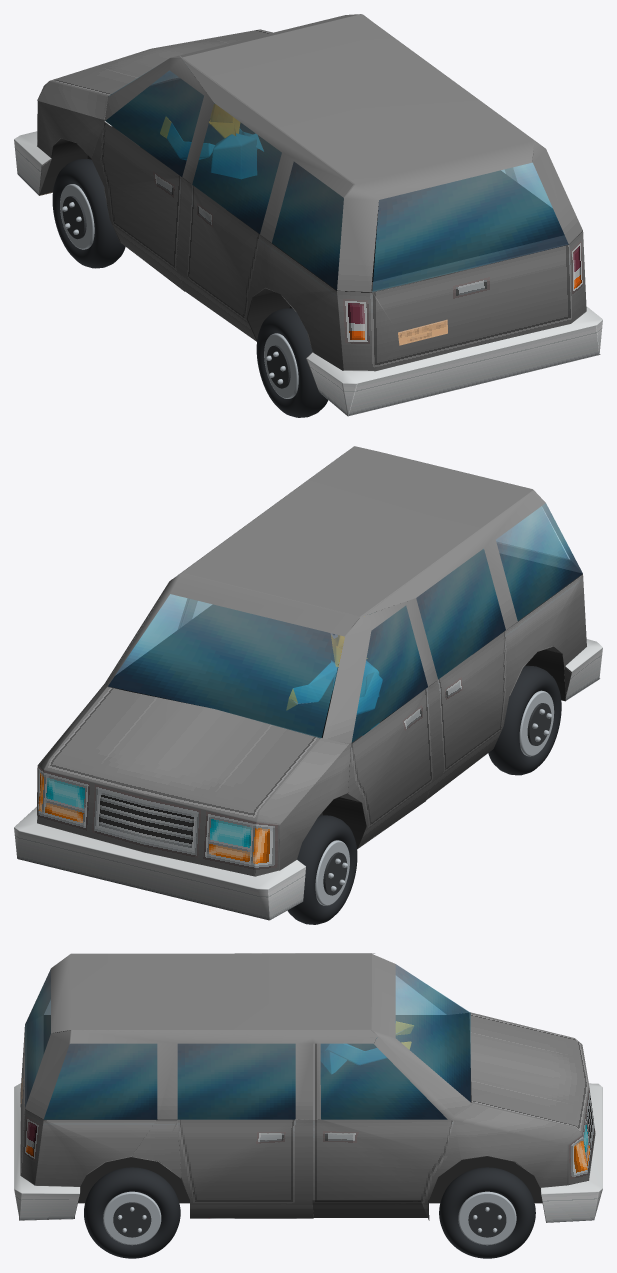
File: car-minivana.glb
The picture shows the model from 3 angles, top to bottom: view 1: azimuth 30°, elevation 25°; view 2: azimuth 150°, elevation 25°; view 3: azimuth 270°, elevation 25°; orthographic projection. The views are drawn at different scales.
Parts seen in each view (by area): view 1: minivanAShape.001, windShape, minivanAShape, Rounded tire.025, Rounded tire.026, Alloy rim.026, Alloy rim.025, Rim recess.050, Rim recess.052; view 2: minivanAShape.001, windShape, minivanAShape, Rounded tire.026, Rounded tire.025, Alloy rim.026, Alloy rim.025, Rim recess.050, Rim recess.052; view 3: minivanAShape.001, windShape, minivanAShape, Rounded tire.027, Rounded tire.024, Alloy rim.027, Alloy rim.024, Rim recess.055, Rim recess.049.
Boxes of the visible parts, x1,y1,x2,y2 form: minivanAShape.001: (14,14,602,416); windShape: (105,70,568,291); minivanAShape: (106,79,564,289); Rounded tire.025: (52,158,125,268); Rounded tire.026: (256,308,328,417); Alloy rim.026: (264,333,298,398); Alloy rim.025: (60,184,94,249); Rim recess.050: (62,196,86,239); Rim recess.052: (266,345,290,388); minivanAShape.001: (14,446,602,920); windShape: (108,503,582,742); minivanAShape: (108,549,581,741); Rounded tire.026: (488,665,561,775); Rounded tire.025: (287,815,357,924); Alloy rim.026: (519,690,554,756); Alloy rim.025: (315,840,349,905); Rim recess.050: (323,852,347,895); Rim recess.052: (527,703,551,745); minivanAShape.001: (14,953,602,1222); windShape: (25,964,470,1119); minivanAShape: (44,1013,470,1119); Rounded tire.027: (84,1167,180,1258); Rounded tire.024: (439,1167,535,1258); Alloy rim.027: (103,1191,161,1245); Alloy rim.024: (458,1191,516,1245); Rim recess.055: (113,1202,151,1237); Rim recess.049: (468,1202,506,1237).
Size of the model in its own units: 2.41 by 2.12 by 5.2.
Materials: 6 (3 with a texture image).
